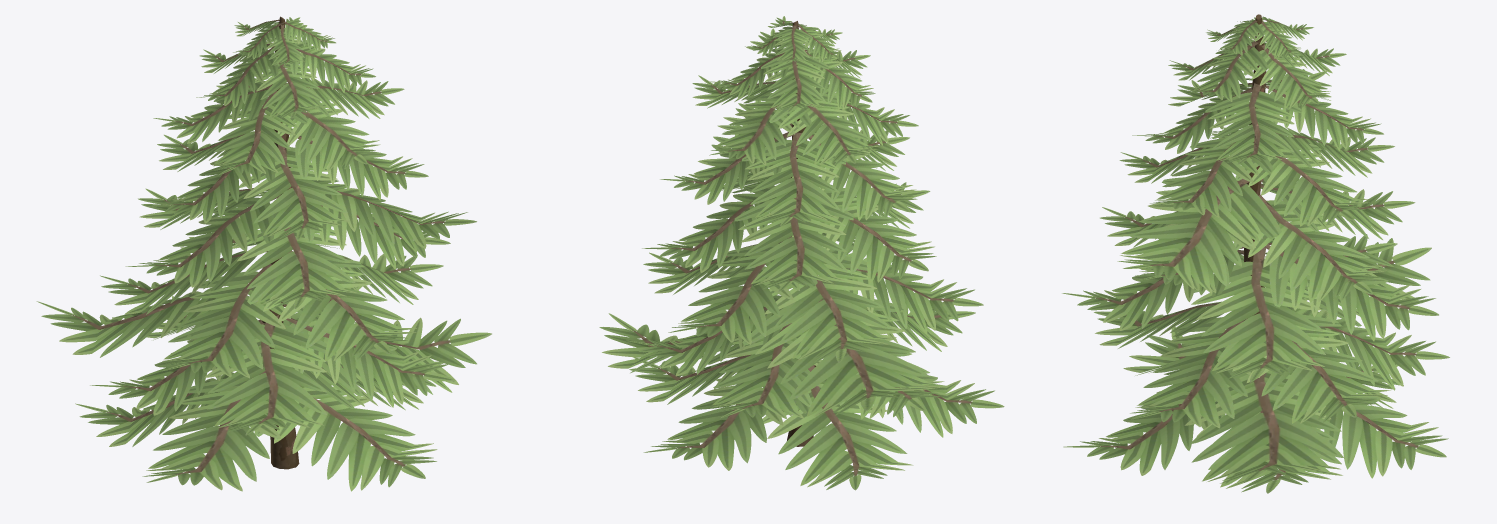
File: pine_1.glb
3 views of the same model, side by side, from view 1: azimuth 30°, elevation 25°; view 2: azimuth 150°, elevation 25°; view 3: azimuth 270°, elevation 25° (orthographic). The views are drawn at different scales.
Parts seen in each view (by area): view 1: Pine_1; view 2: Pine_1; view 3: Pine_1.
Part boxes in pixels (x1,y1,x2,y2): Pine_1: (36,16,491,491); Pine_1: (599,16,1004,490); Pine_1: (1062,14,1449,493).
Bounding box in the file's own units: 7.73 × 7.58 × 6.76.
2 materials, 2 textured.
